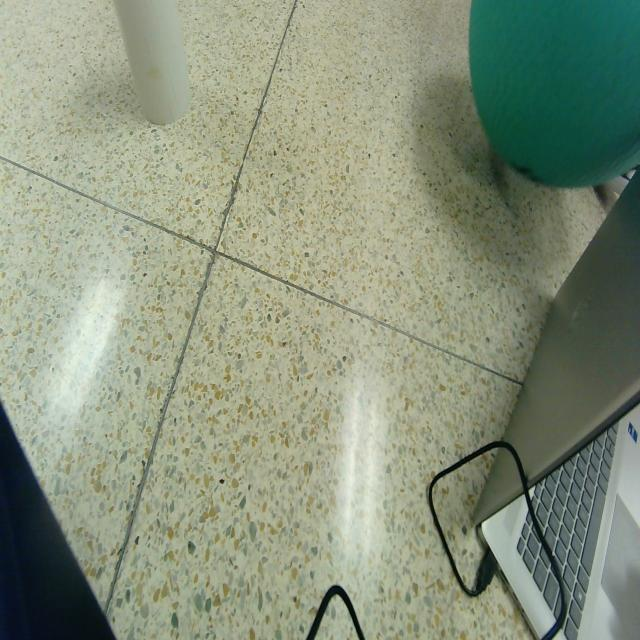algae: (469, 0, 640, 188)
coral: (113, 0, 191, 124)
